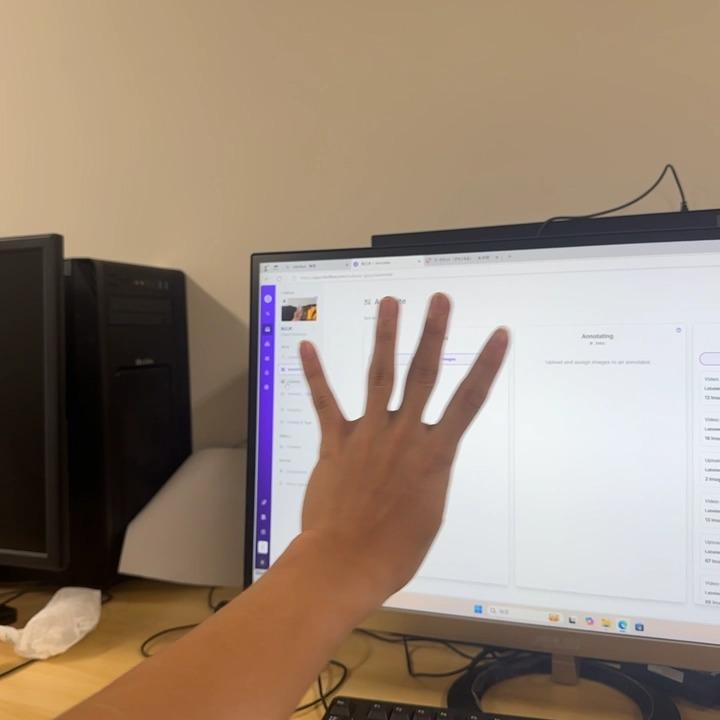without_gloves: (198, 255, 553, 624)
